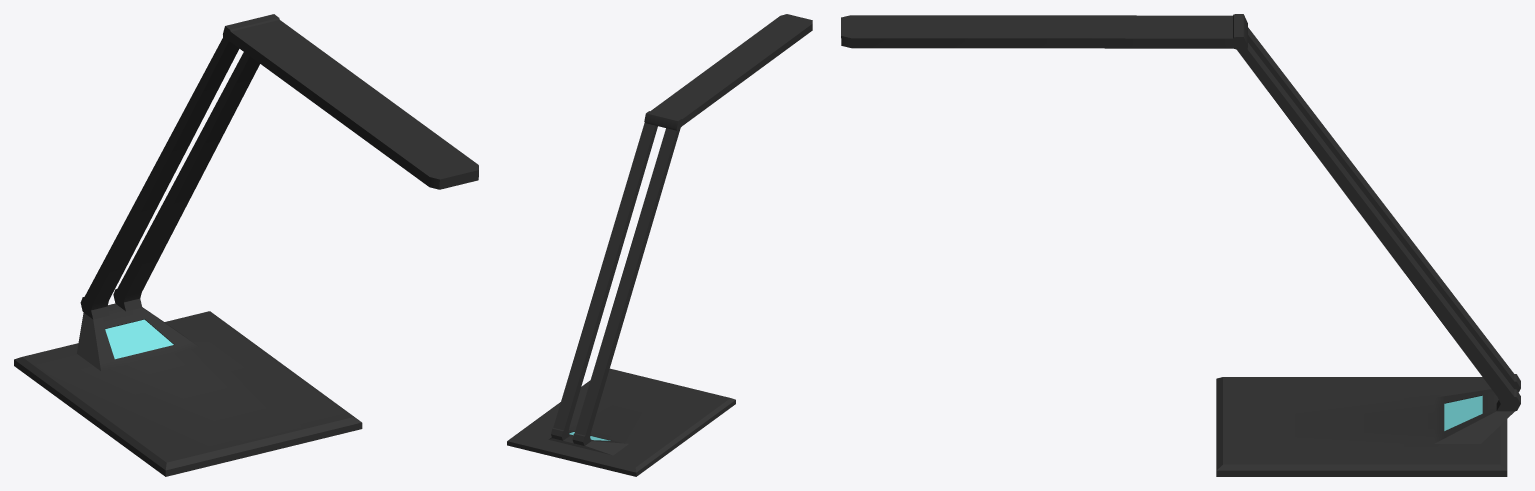
File: LightOfficeDesk.fbx
3 views of the same model, side by side, from view 1: azimuth 30°, elevation 25°; view 2: azimuth 150°, elevation 25°; view 3: azimuth 270°, elevation 25° (orthographic). The views are drawn at different scales.
Parts seen in each view (by area): view 1: LightOfficeDesk; view 2: LightOfficeDesk; view 3: LightOfficeDesk.
Part boxes in pixels (bbox=[...]): LightOfficeDesk: bbox=[14, 14, 478, 476]; LightOfficeDesk: bbox=[507, 14, 812, 476]; LightOfficeDesk: bbox=[841, 14, 1520, 476].
Bounding box in the file's own units: 19.83 × 40.75 × 61.93.
